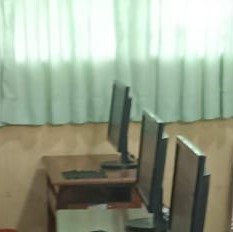monitor: (165, 120, 210, 230), (130, 80, 165, 190), (100, 50, 130, 135)
